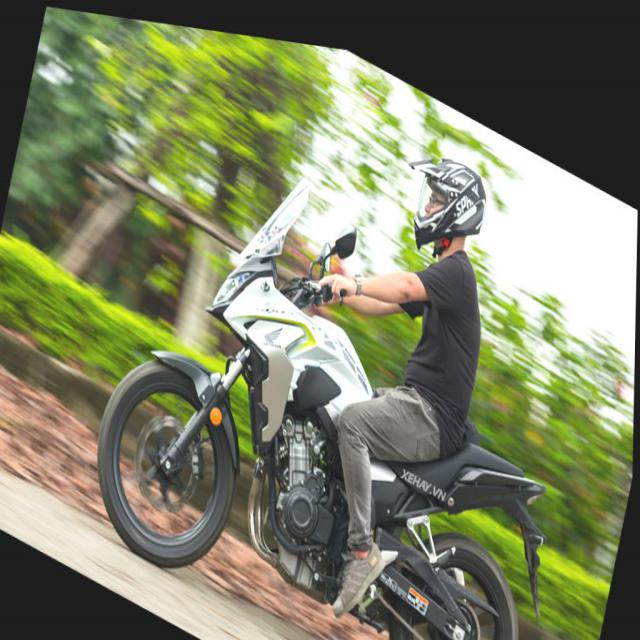CB500X: (76, 82, 604, 639)
